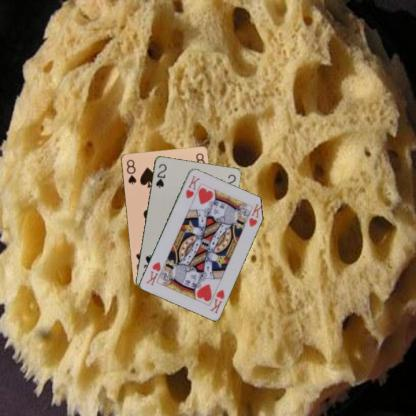2s: (153, 161, 168, 189)
8s: (124, 156, 138, 186)
Kh: (183, 173, 202, 200), (207, 287, 226, 314)
